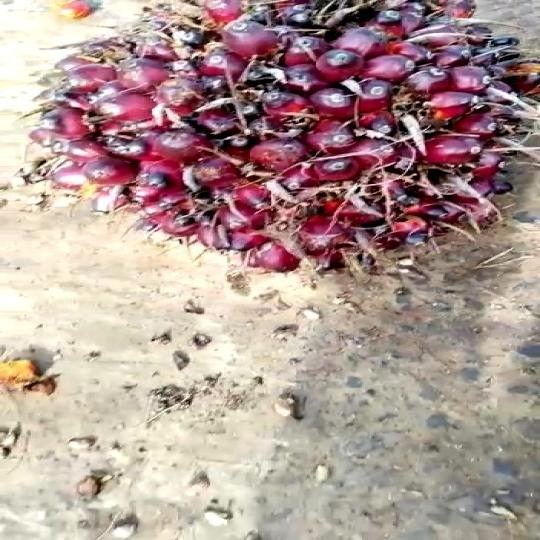masak: (0, 0, 540, 283)
